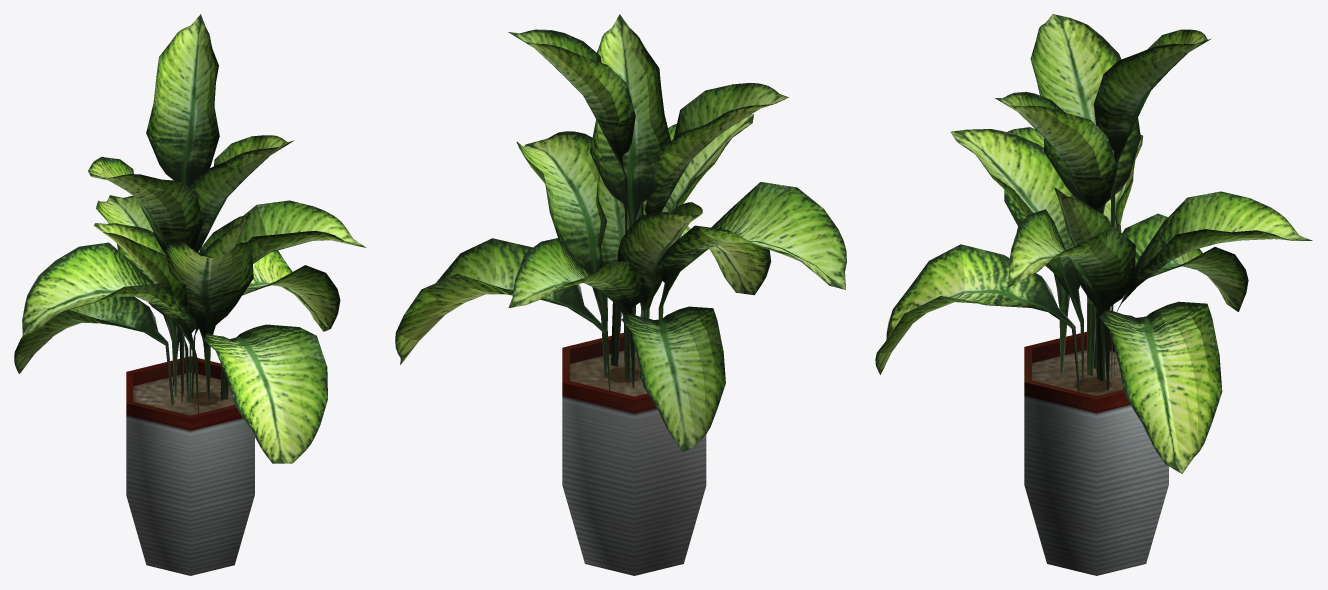
Rendered from 3Dgj_HDGS_pz_zxx.FBX.
3 renders of one model, left to right at view 1: azimuth 30°, elevation 25°; view 2: azimuth 150°, elevation 25°; view 3: azimuth 270°, elevation 25°, orthographic. The views are drawn at different scales.
Parts seen in each view (by area): view 1: 3Dgj_HDGS_pz_zxx; view 2: 3Dgj_HDGS_pz_zxx; view 3: 3Dgj_HDGS_pz_zxx.
Boxes of the visible parts, bbox=[...] form: 3Dgj_HDGS_pz_zxx: bbox=[14, 14, 366, 575]; 3Dgj_HDGS_pz_zxx: bbox=[395, 14, 846, 575]; 3Dgj_HDGS_pz_zxx: bbox=[875, 14, 1312, 575].
Bounding box in the file's own units: 0.7499 × 0.9965 × 0.7233.
